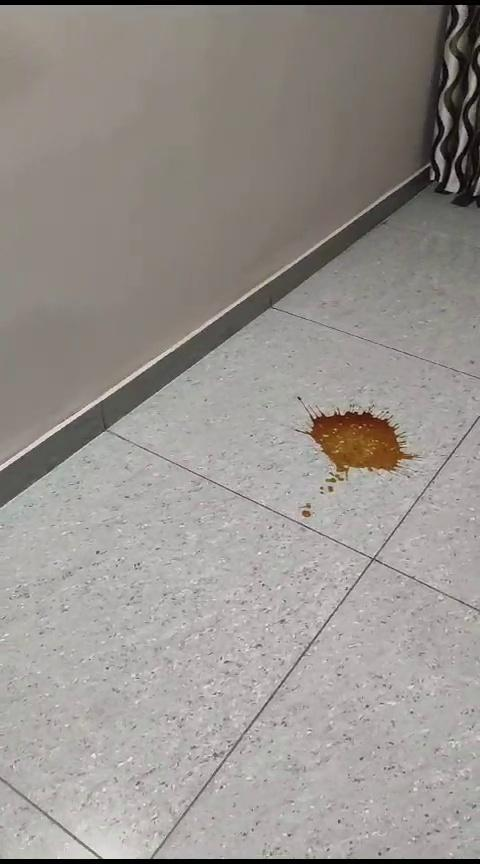dirty_floor: (299, 392, 416, 529)
